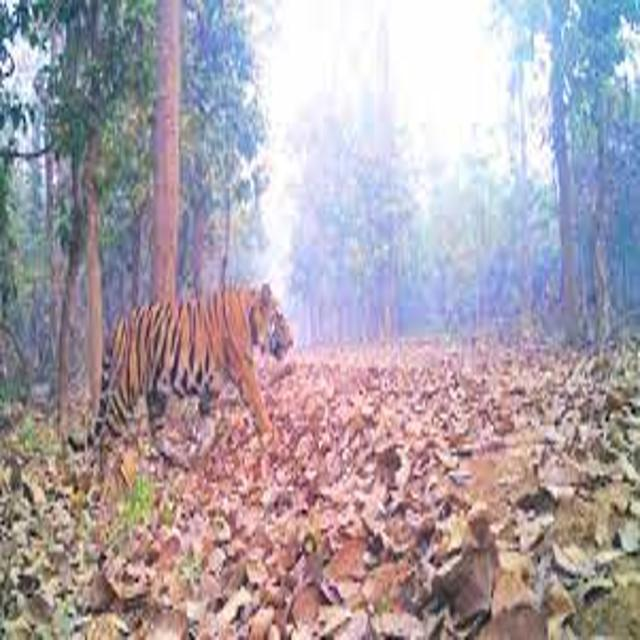tiger: (42, 245, 329, 511)
